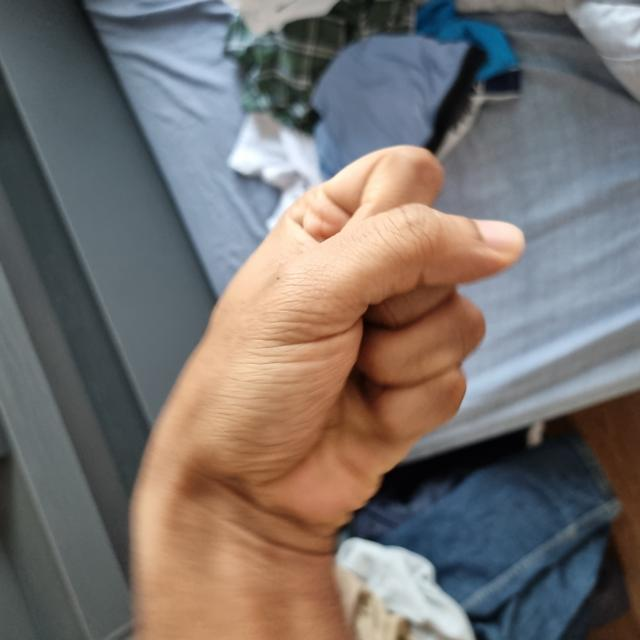Rock: (109, 139, 490, 520)
